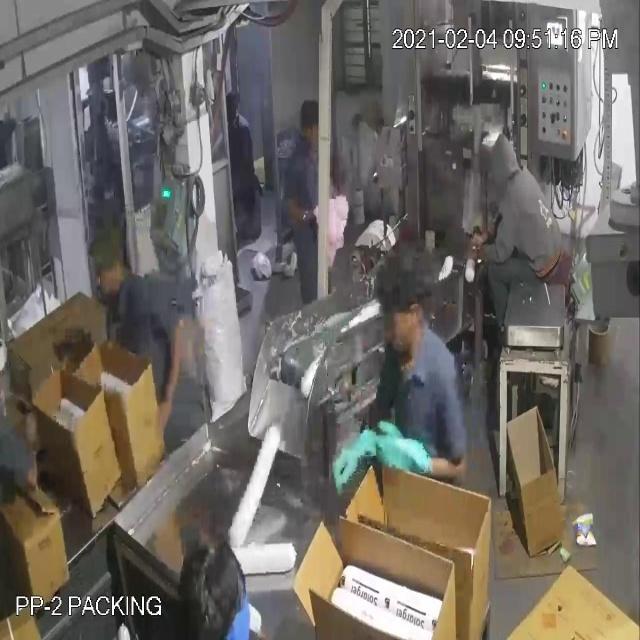Guantes: (374, 390, 433, 494), (324, 420, 378, 494)
Sin_guantes: (142, 302, 192, 451), (285, 176, 322, 246)
